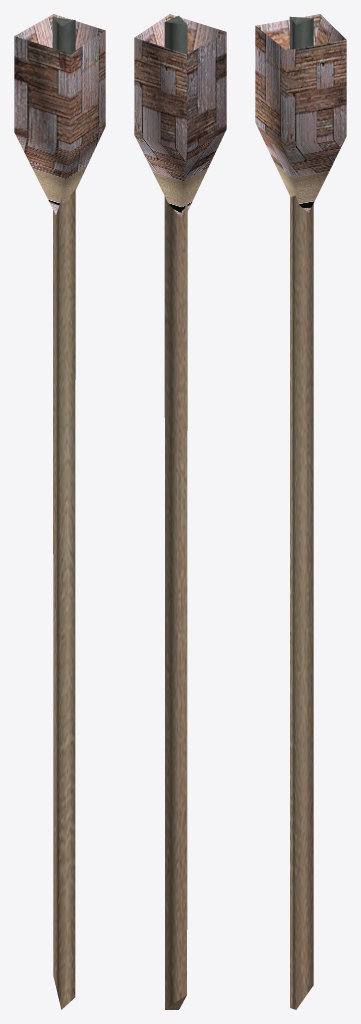
File: frn_all_tiki_torch_s1_l2.fbx
The picture shows the model from 3 angles, left to right: view 1: azimuth 30°, elevation 25°; view 2: azimuth 210°, elevation 25°; view 3: azimuth 270°, elevation 25°; orthographic projection.
Visible parts, largest first — view 1: mesh_node; view 2: mesh_node; view 3: mesh_node.
Boxes of the visible parts, x1,y1,x2,y2 form: mesh_node: [14, 14, 105, 1009]; mesh_node: [134, 14, 226, 1009]; mesh_node: [255, 14, 346, 1009].
Bounding box in the file's own units: 0.1213 × 1.53 × 0.1275.
1 material, 1 textured.
